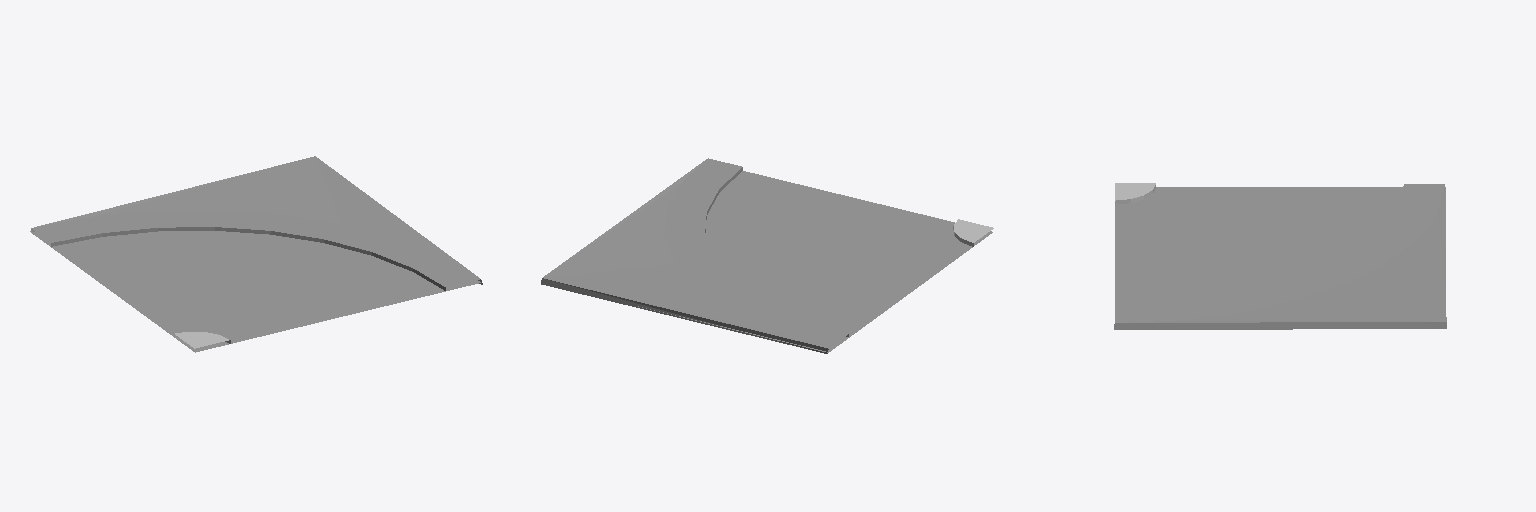
The picture shows the model from 3 angles: view 1: azimuth 30°, elevation 25°; view 2: azimuth 150°, elevation 25°; view 3: azimuth 270°, elevation 25°; orthographic projection.
Parts seen in each view (by area): view 1: rua_Plane.002, Circle.001, Circle; view 2: rua_Plane.002, Circle.001, Circle; view 3: rua_Plane.002, Circle.001, Circle.
Part boxes in pixels (left/top/right/bottom): rua_Plane.002: left=30, top=231, right=480, bottom=352; Circle.001: left=31, top=156, right=482, bottom=290; Circle: left=174, top=332, right=230, bottom=348; rua_Plane.002: left=638, top=171, right=992, bottom=352; Circle.001: left=541, top=158, right=848, bottom=353; Circle: left=953, top=219, right=993, bottom=246; rua_Plane.002: left=1115, top=187, right=1445, bottom=305; Circle.001: left=1114, top=184, right=1446, bottom=329; Circle: left=1115, top=183, right=1155, bottom=204.
Size of the model in its own units: 16.09 by 0.4368 by 16.12.